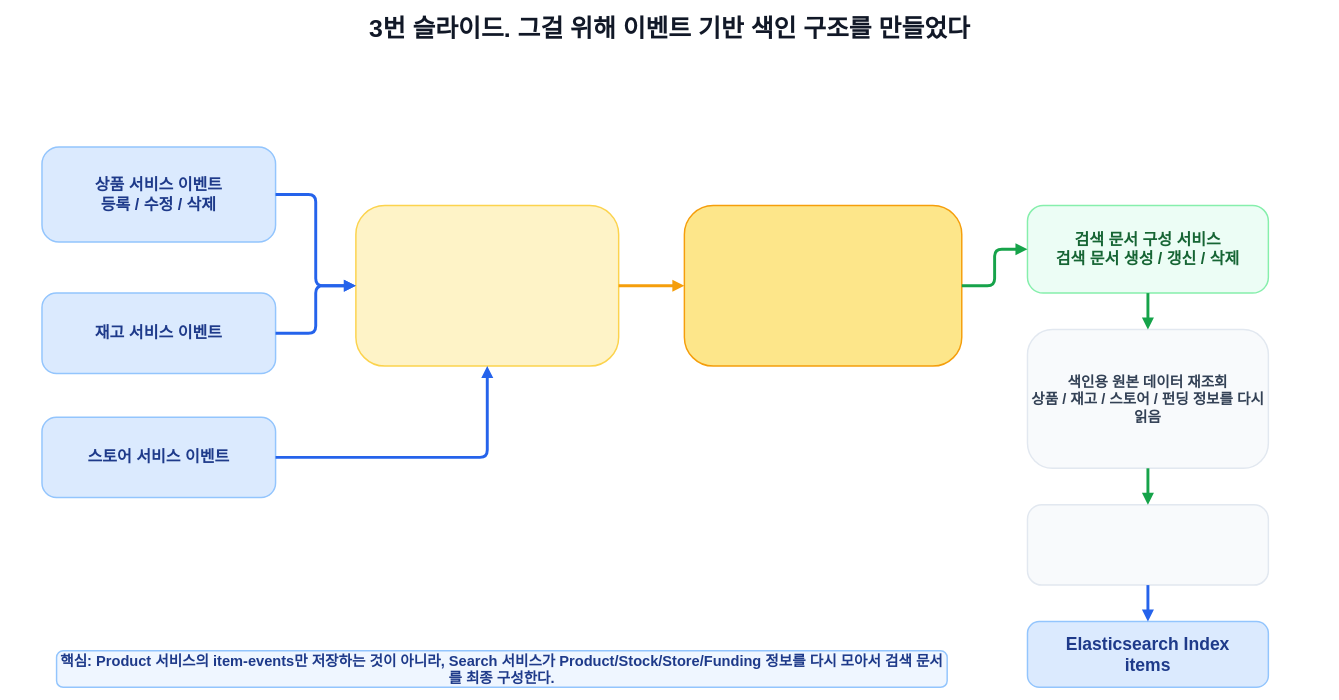
Image size: 1339x700. Some labels were removed from this diagram. Here are the shapes that lost their labels. From the top down, the box of each, then its label:
(355, 204, 619, 366): 이벤트 수신 계층 상품 / 재고 / 스토어 이벤트 수신
(683, 204, 962, 366): 이벤트 해석 / 분기 계층 이벤트 타입에 따라 upsert / delete / reindex 결정
(1026, 504, 1269, 585): Elasticsearch 연동 계층 문서 upsert / delete / stock update
